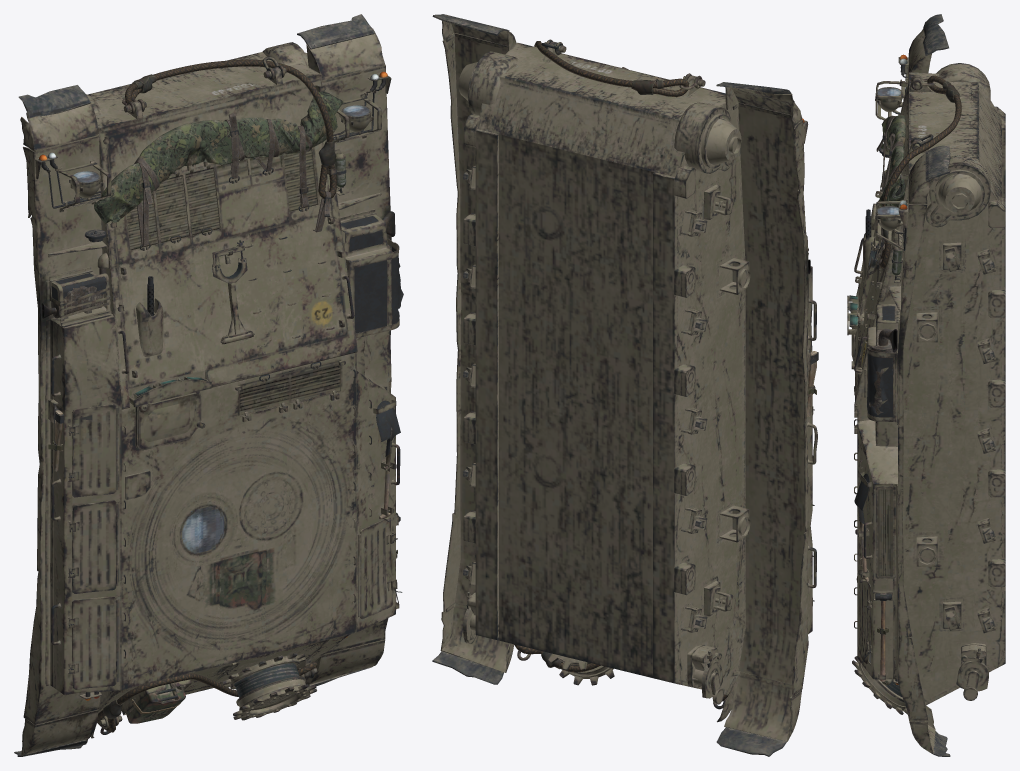
The model's file is Hull.glb.
3 views of the same model, side by side, from view 1: azimuth 30°, elevation 25°; view 2: azimuth 150°, elevation 25°; view 3: azimuth 270°, elevation 25° (orthographic). The views are drawn at different scales.
Parts seen in each view (by area): view 1: set_0_group_0; view 2: set_0_group_0; view 3: set_0_group_0.
Boxes of the visible parts, x1,y1,x2,y2 form: set_0_group_0: [14, 14, 403, 756]; set_0_group_0: [432, 14, 818, 756]; set_0_group_0: [847, 14, 1005, 756].
Bounding box in the file's own units: 2.99 × 5.38 × 1.28.
Materials: 1 (1 with a texture image).
